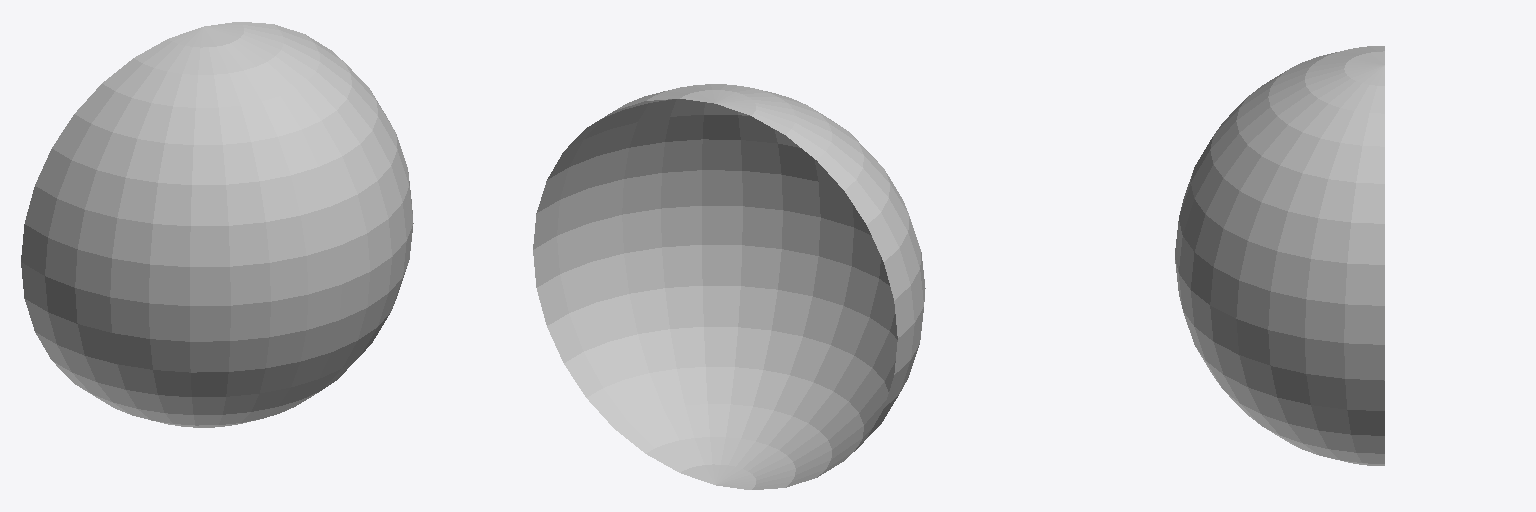
The model's file is halfsphere.obj.
3 renders of one model, left to right at view 1: azimuth 30°, elevation 25°; view 2: azimuth 150°, elevation 25°; view 3: azimuth 270°, elevation 25°, orthographic.
Parts seen in each view (by area): view 1: Sphere; view 2: Sphere; view 3: Sphere.
Boxes of the visible parts, box(x1,y1,x2,y2) form: Sphere: box(21, 22, 413, 427); Sphere: box(533, 84, 925, 489); Sphere: box(1175, 46, 1384, 465).
Bounding box in the file's own units: 2 × 2 × 1.